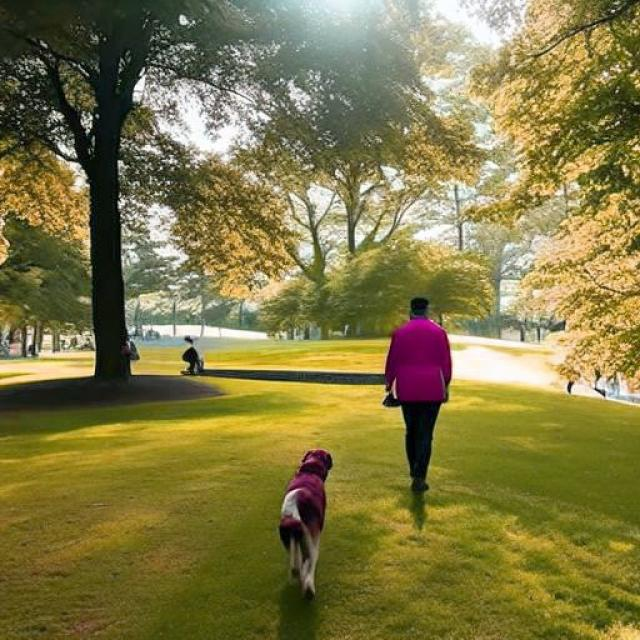Unleashed_Dog: (277, 381, 446, 599)
